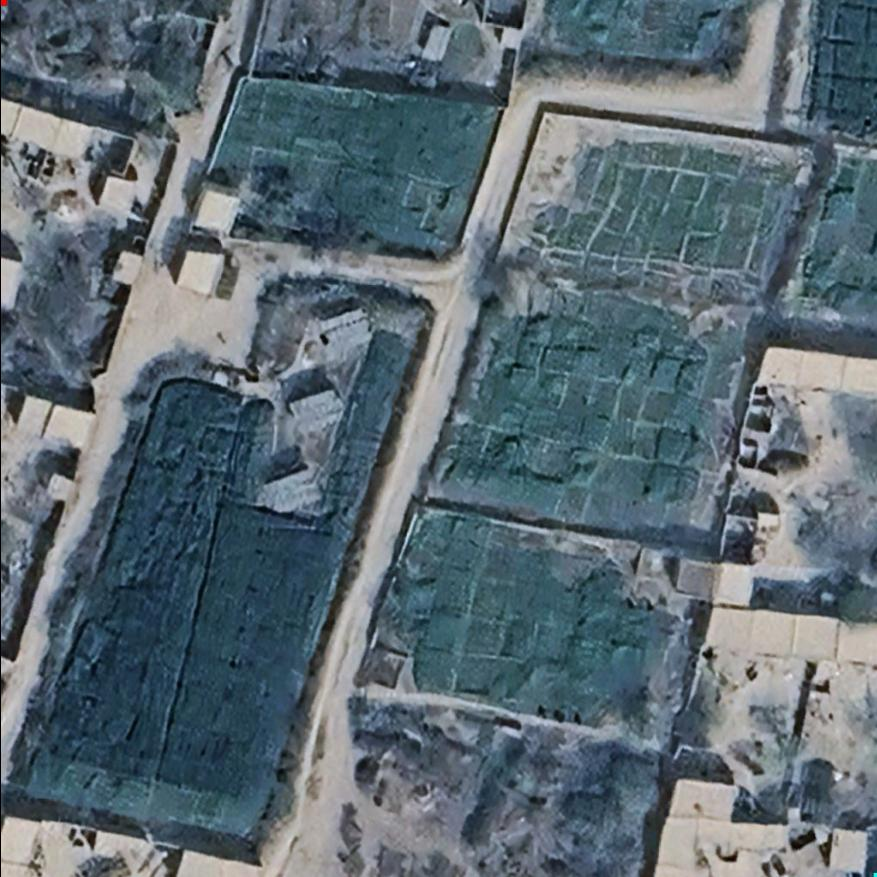Solarpanel: (253, 464, 325, 518), (280, 383, 347, 440), (313, 303, 377, 360)
